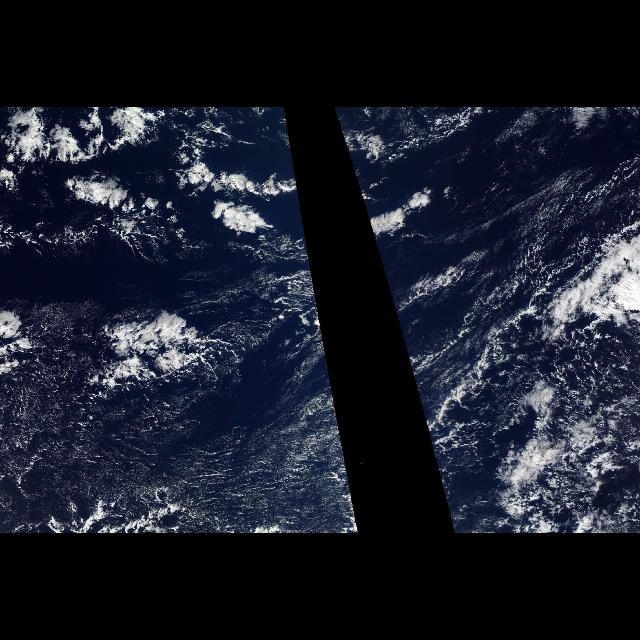Fish: (91, 304, 253, 392)
Flower: (3, 108, 331, 376), (334, 108, 428, 376)
Gravel: (446, 253, 624, 412)
Sugar: (2, 384, 362, 534)
